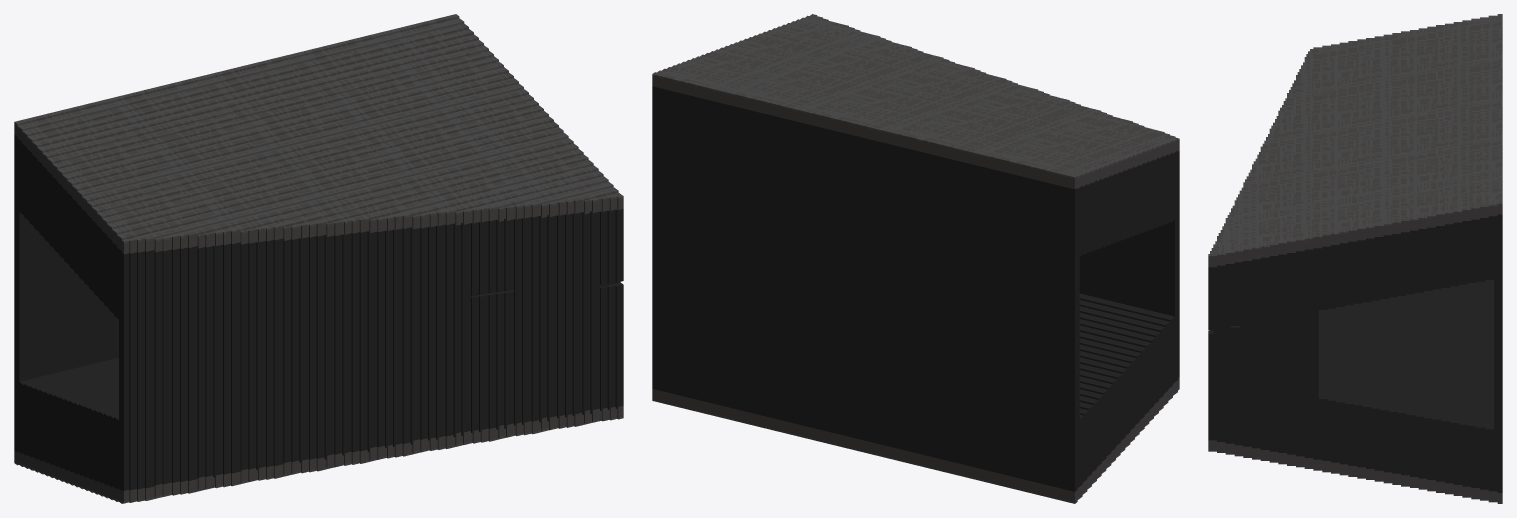
The model's file is Space ship-19.obj.
The picture shows the model from 3 angles, left to right: view 1: azimuth 30°, elevation 25°; view 2: azimuth 150°, elevation 25°; view 3: azimuth 270°, elevation 25°; orthographic projection. The views are drawn at different scales.
Size of the model in its own units: 25.6 by 18.9 by 16.8.
1 material, 1 textured.
